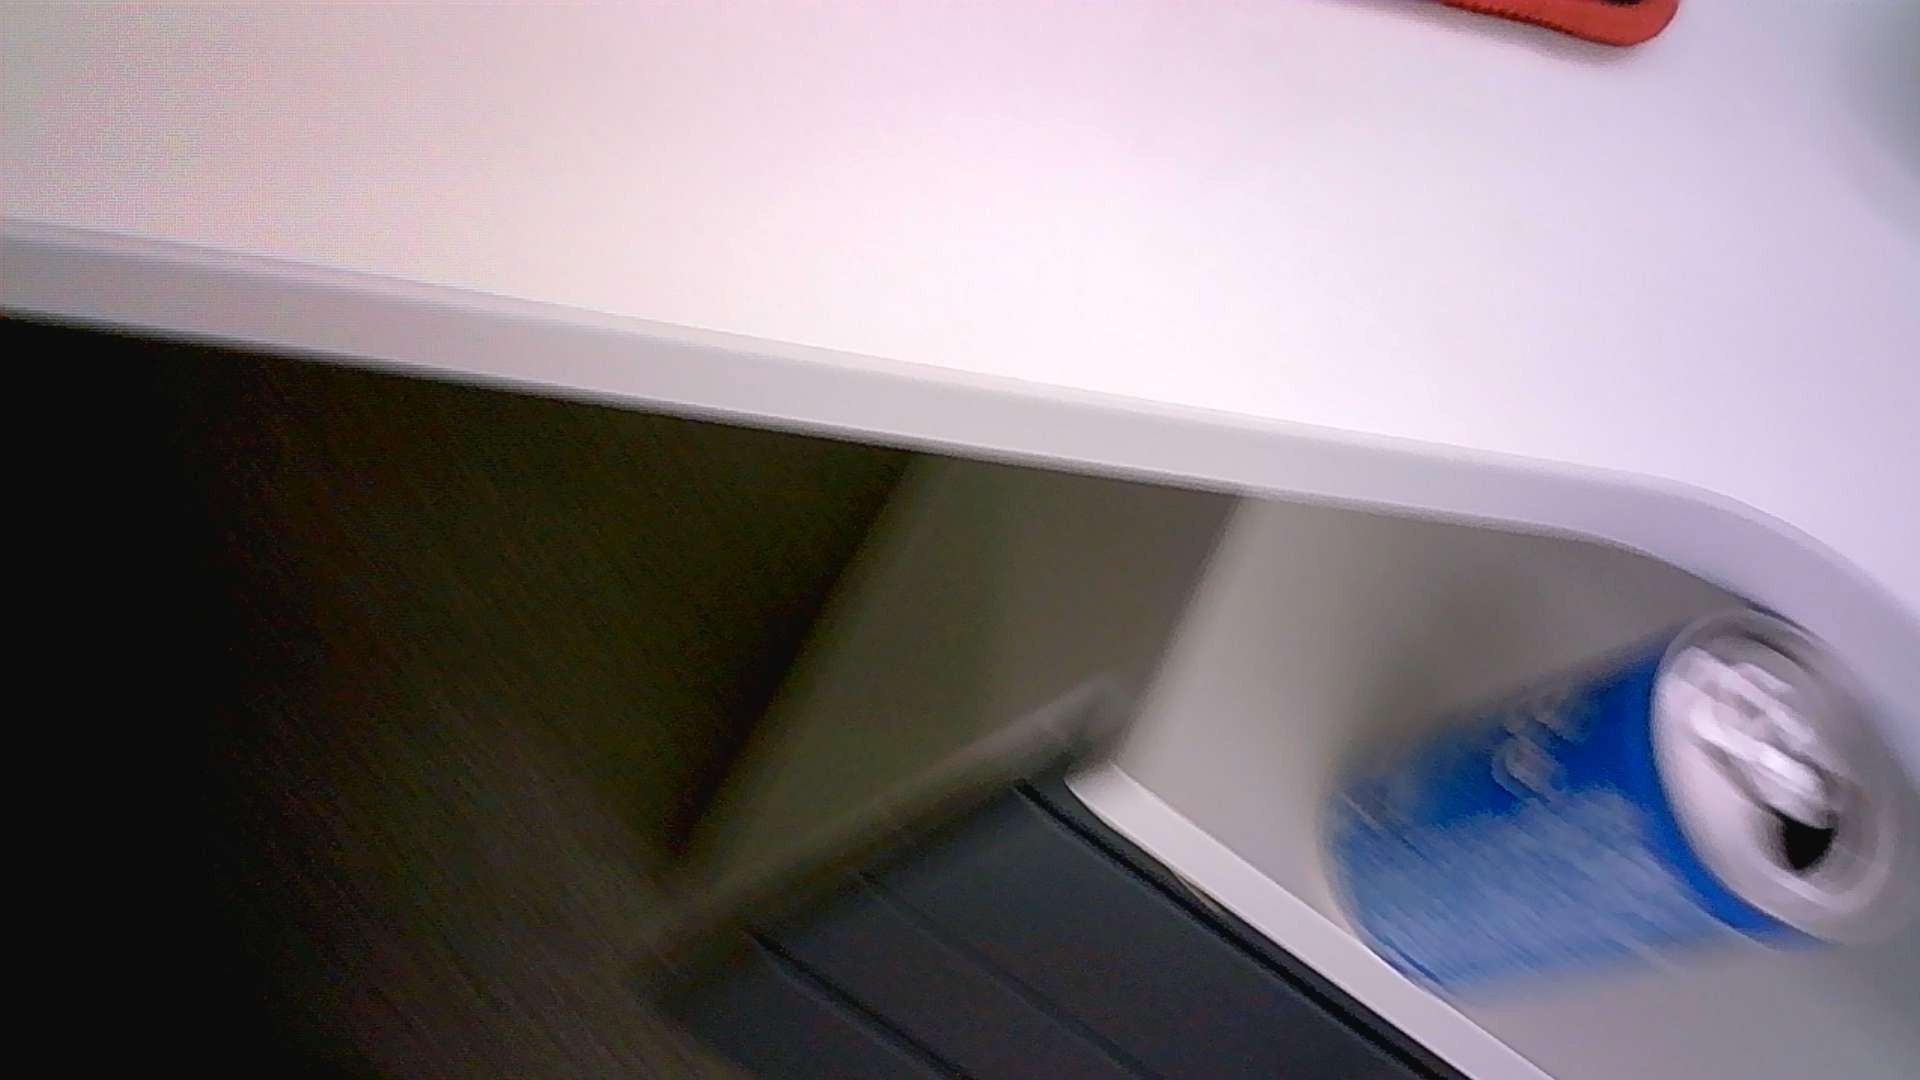letsbe: (1316, 604, 1912, 1009)
